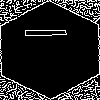I: (25, 25, 77, 40)
